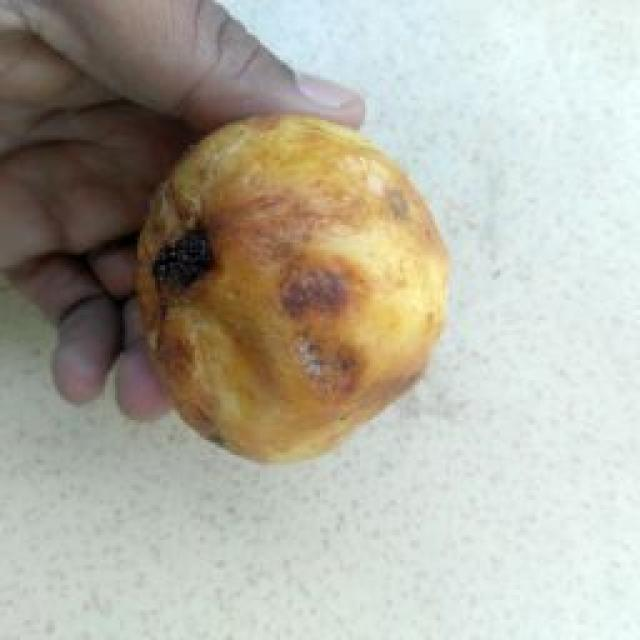Organik: (121, 106, 479, 466)
